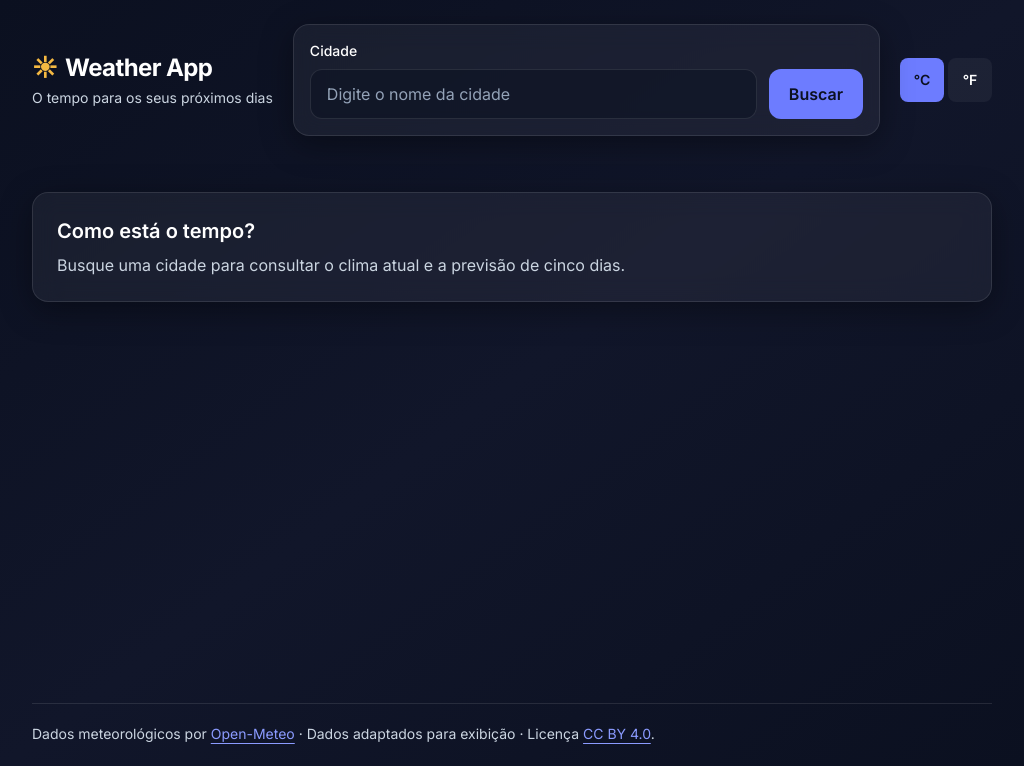
App integrado ao useWeather › retry meteorológico mantém a cidade selecionada e respeita a unidade atual
Type "Curitiba" into the search field at [533, 94], box [310, 69, 757, 119]
Then press Enter
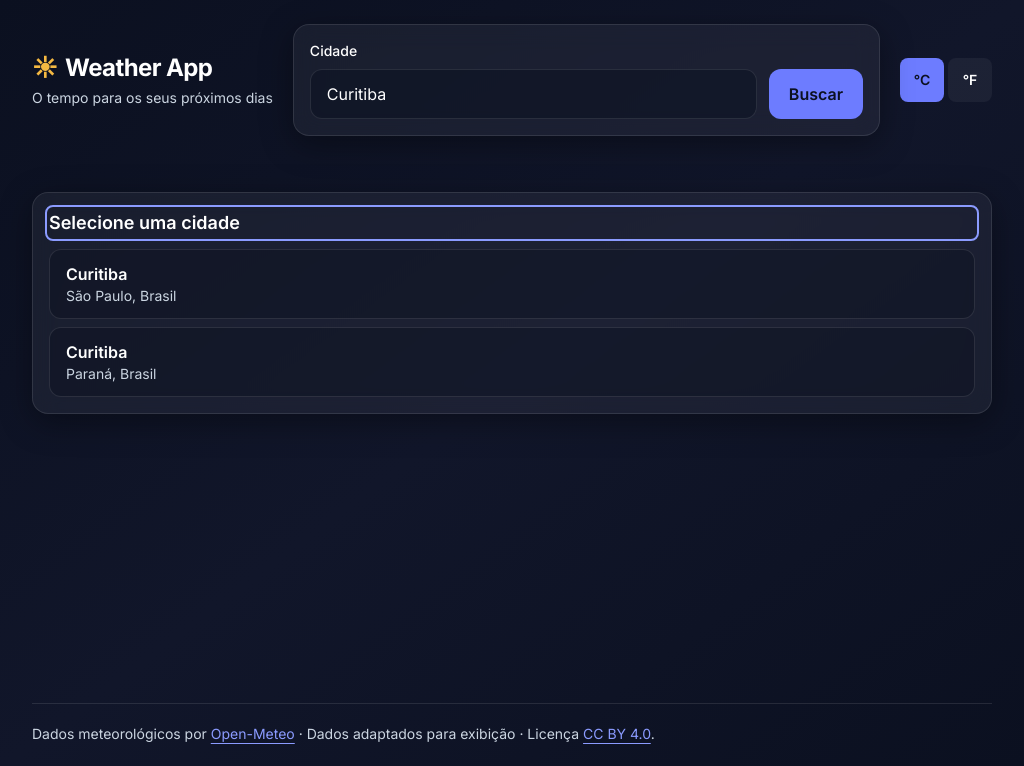
Click the button "Curitiba São Paulo, Brasil" at [97, 274], box [49, 249, 975, 319]
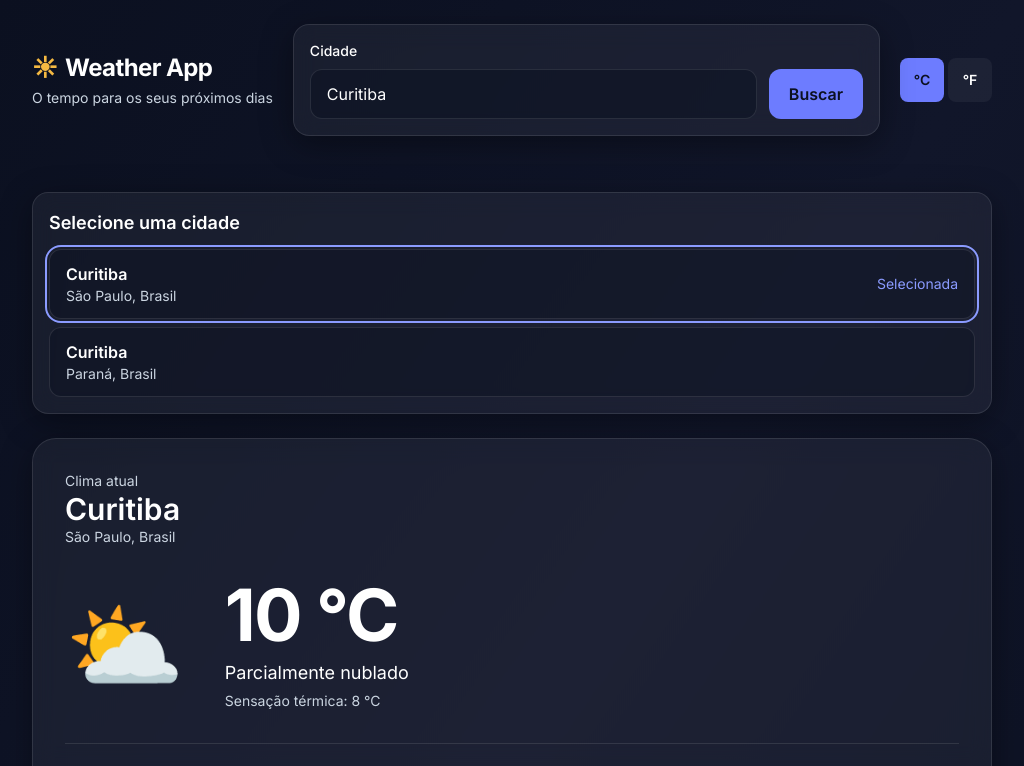
Click the button "Curitiba São Paulo, Brasil Selecionada" at [97, 274], box [49, 249, 975, 319]
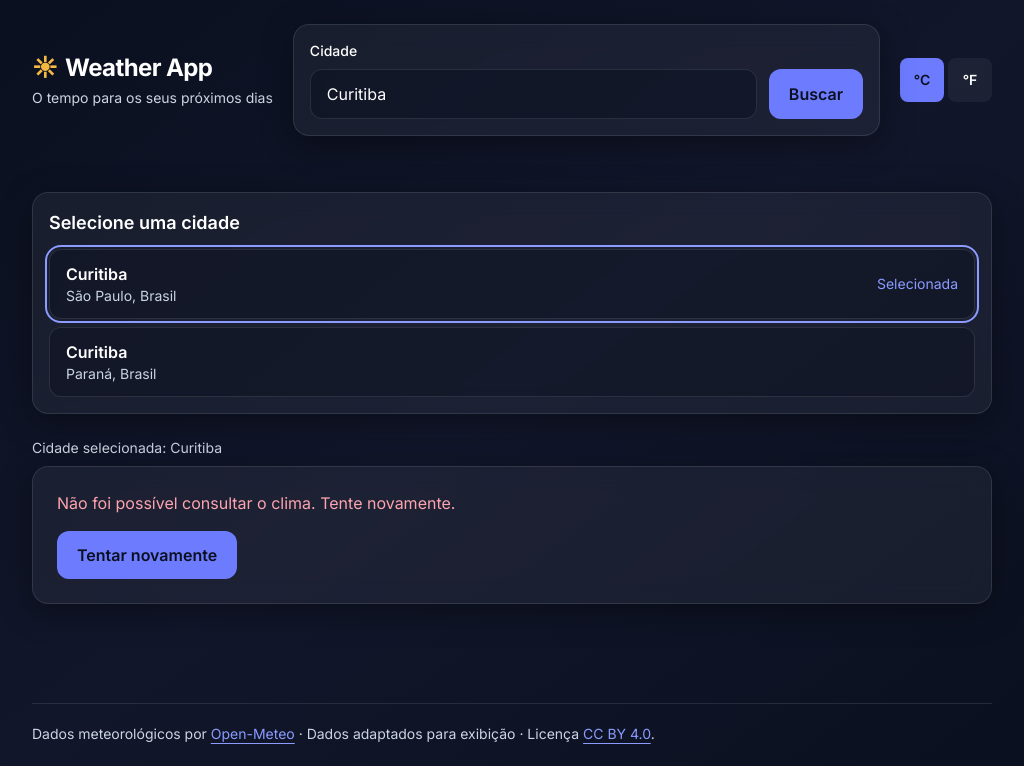
Check: the message reads "Não foi possível consultar o clima. Tente novamente.", box [57, 493, 455, 513]
Check: the text "Cidade selecionada: Curitiba" is shown, box [32, 439, 222, 456]
Click the button named "Fahrenheit" at [970, 80], box [948, 58, 992, 102]
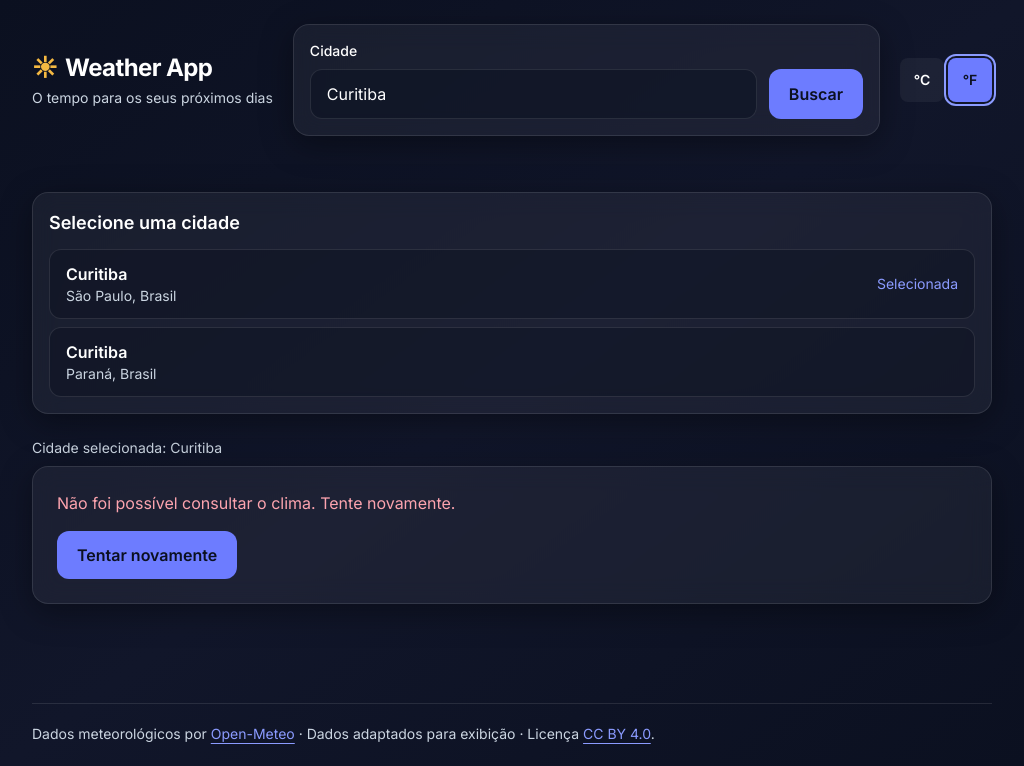
Replace the text in the search field with "texto não enviado" at [533, 94], box [310, 69, 757, 119]
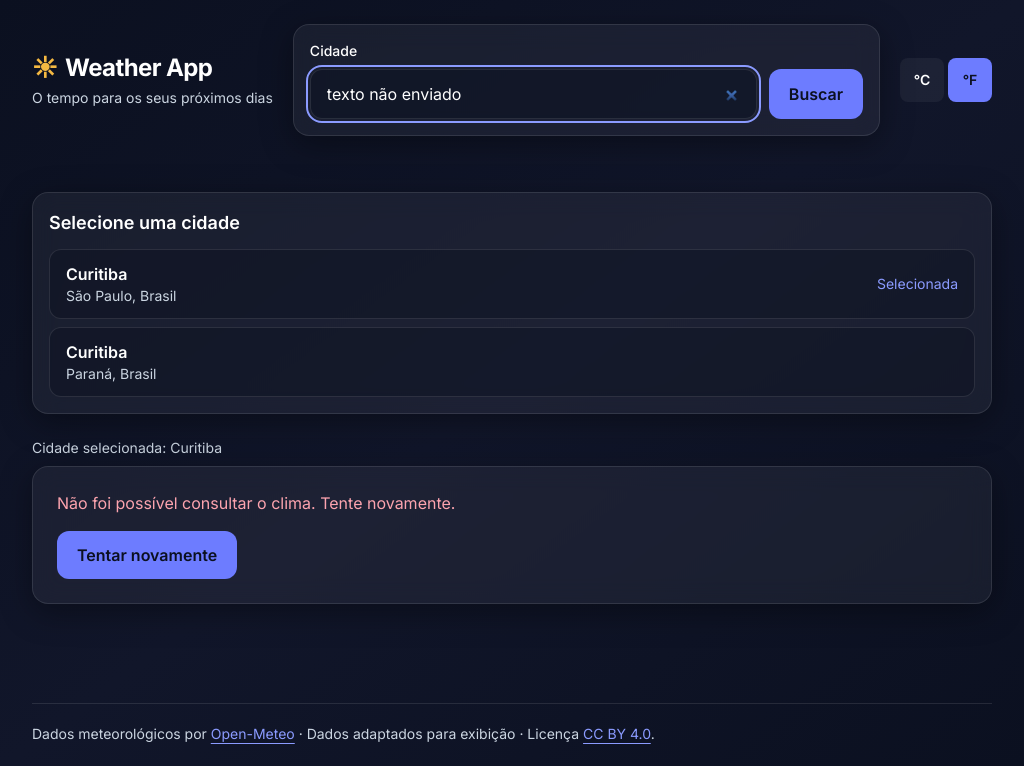
Click the button "Tentar novamente" at [147, 555], box [57, 531, 237, 579]
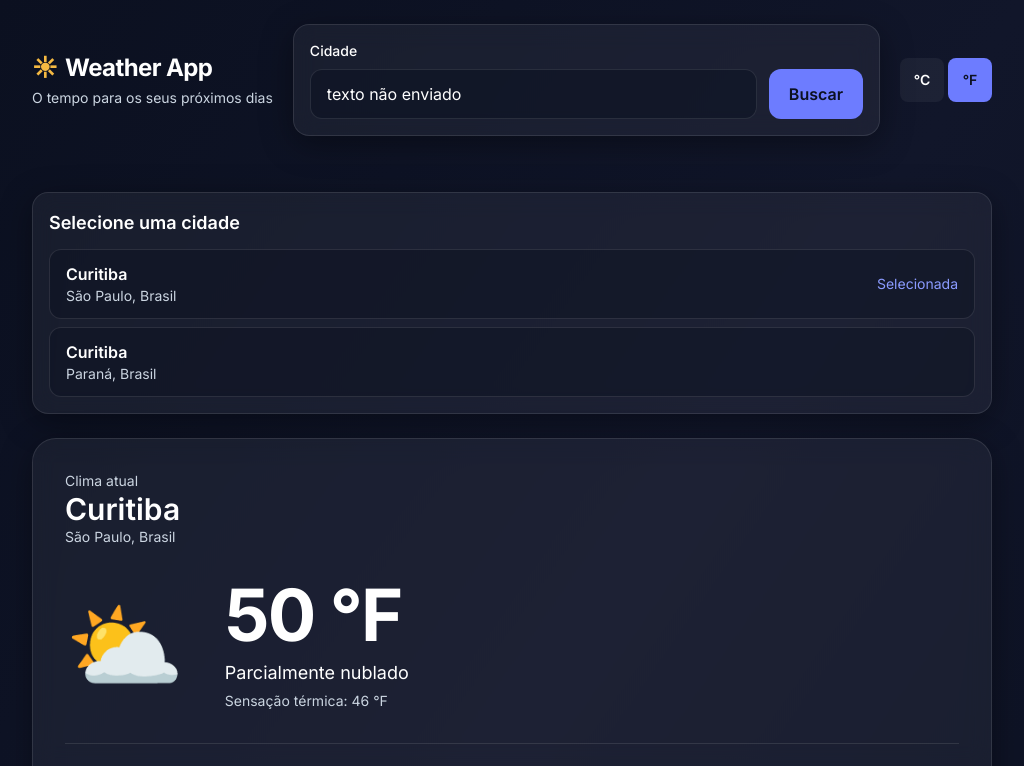
Check: the text named "Temperatura atual" reads "50 °F", box [225, 571, 402, 658]
